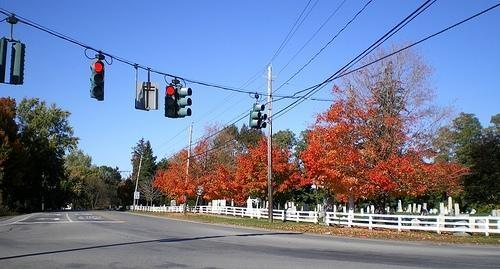car: (61, 202, 72, 210)
